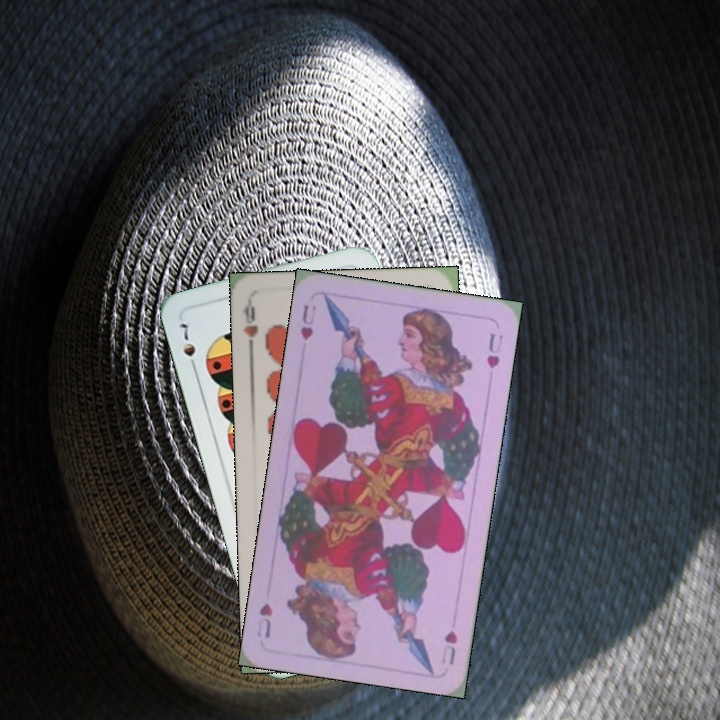H9: (238, 297, 260, 357)
HU: (296, 300, 319, 343), (437, 626, 460, 668)
S7: (176, 319, 200, 375)
